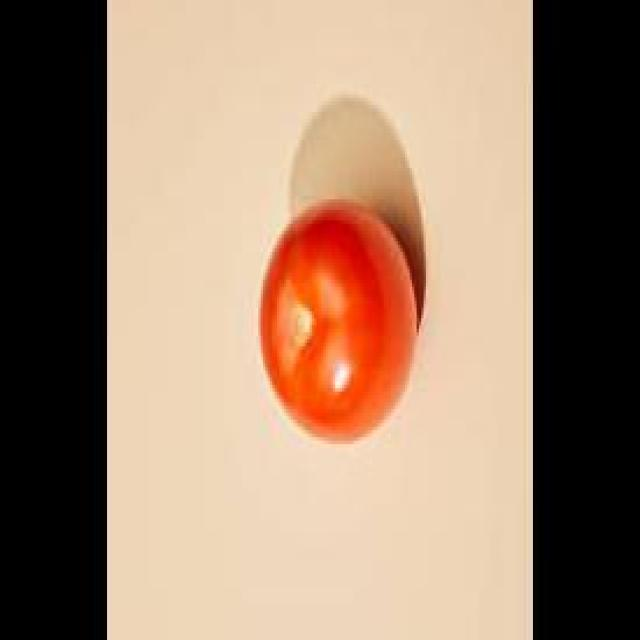Tomato: (254, 192, 423, 454)
